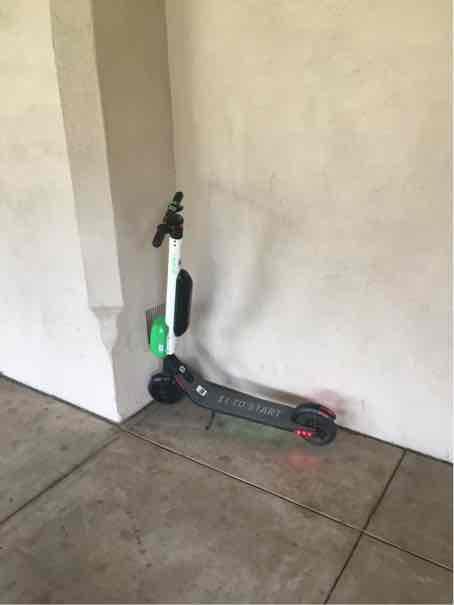scooter: (133, 184, 340, 451)
